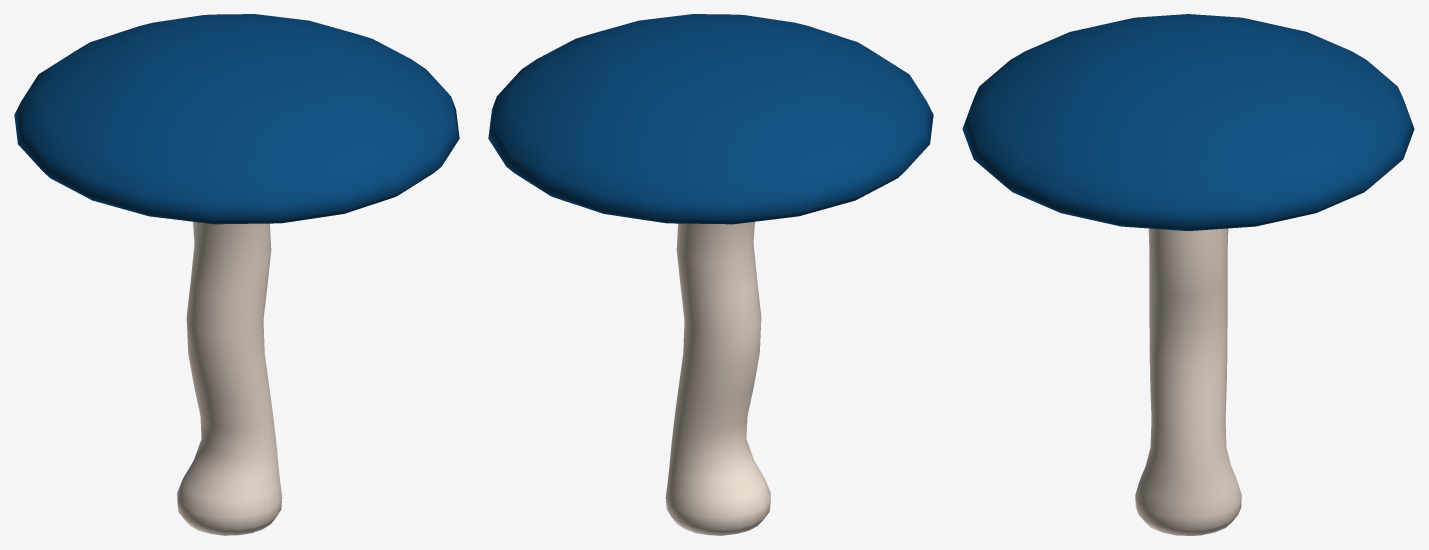
The model's file is cogumas_blue (1).fbx.
The picture shows the model from 3 angles, left to right: view 1: azimuth 30°, elevation 25°; view 2: azimuth 150°, elevation 25°; view 3: azimuth 270°, elevation 25°; orthographic projection.
Visible parts, largest first — view 1: Cylinder.001; view 2: Cylinder.001; view 3: Cylinder.001.
Part boxes in pixels (left/top/right/bottom): Cylinder.001: left=14, top=14, right=459, bottom=535; Cylinder.001: left=488, top=14, right=933, bottom=535; Cylinder.001: left=962, top=14, right=1414, bottom=535.
Size of the model in its own units: 491 by 568 by 491.
